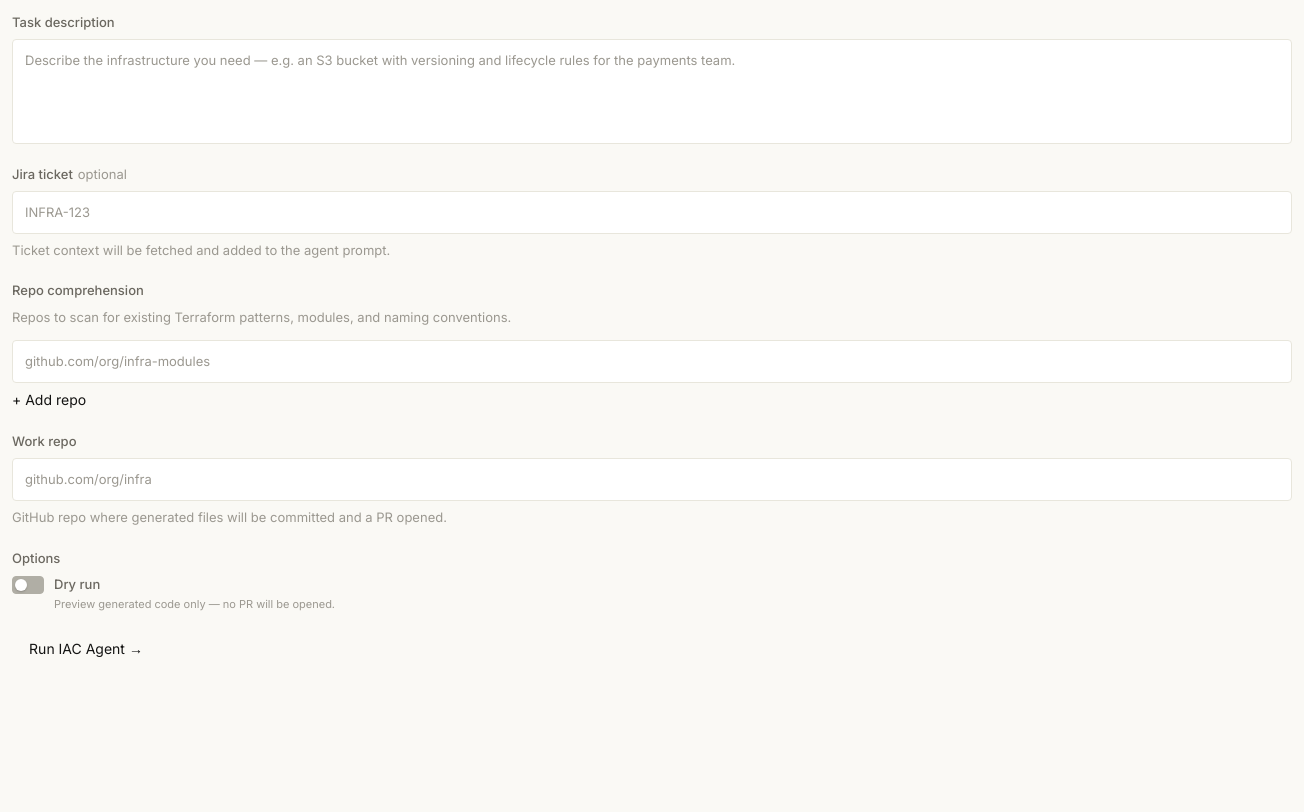
Test: TaskForm › removeRepo always leaves at least one row
Expected: the button "✕" is not shown
What coordinates should you click on to do the following:
click the button "+ Add repo"
I would click on:
 (49, 400)
Its box is [12,389,86,411].
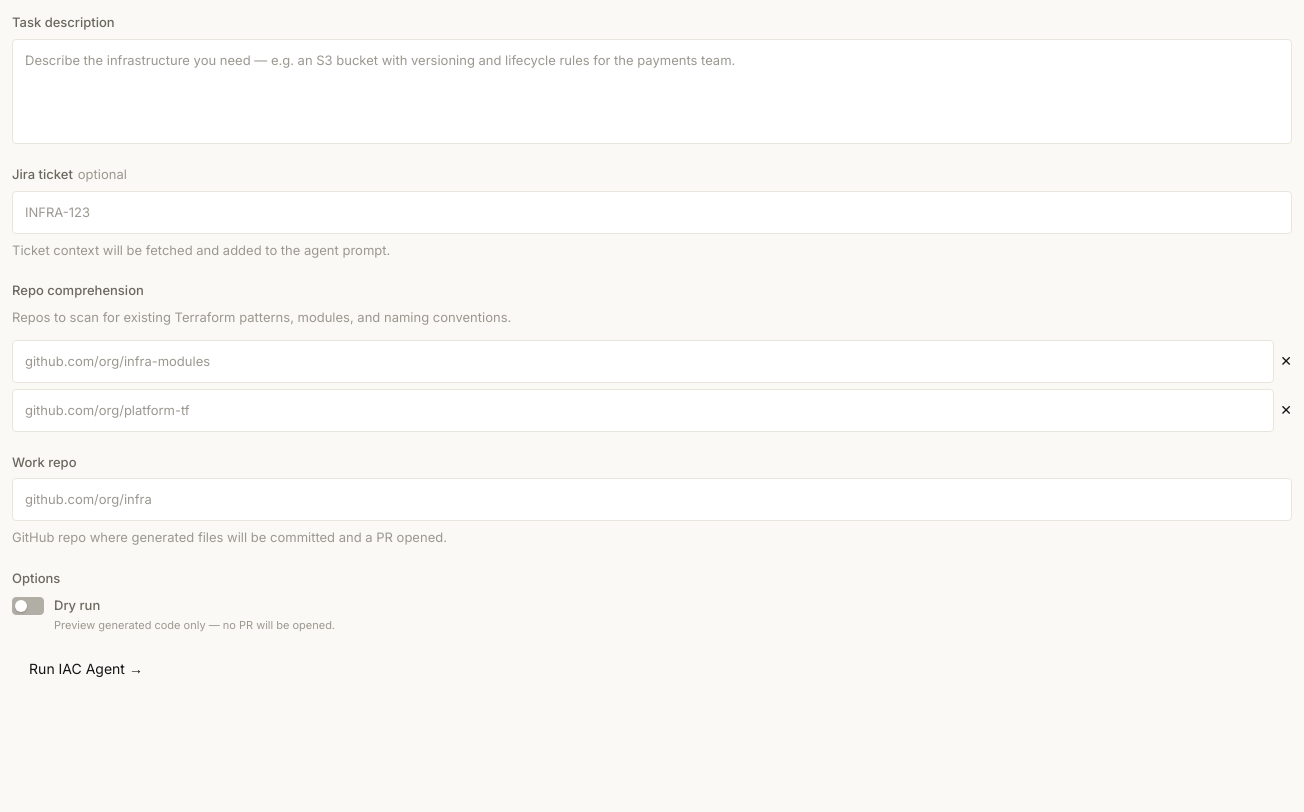
Expected: the number of buttons "✕" is 2
What coordinates should you click on to do the following:
click the 1st button "✕"
I would click on:
 (1286, 361)
Its box is [1280,340,1292,383].
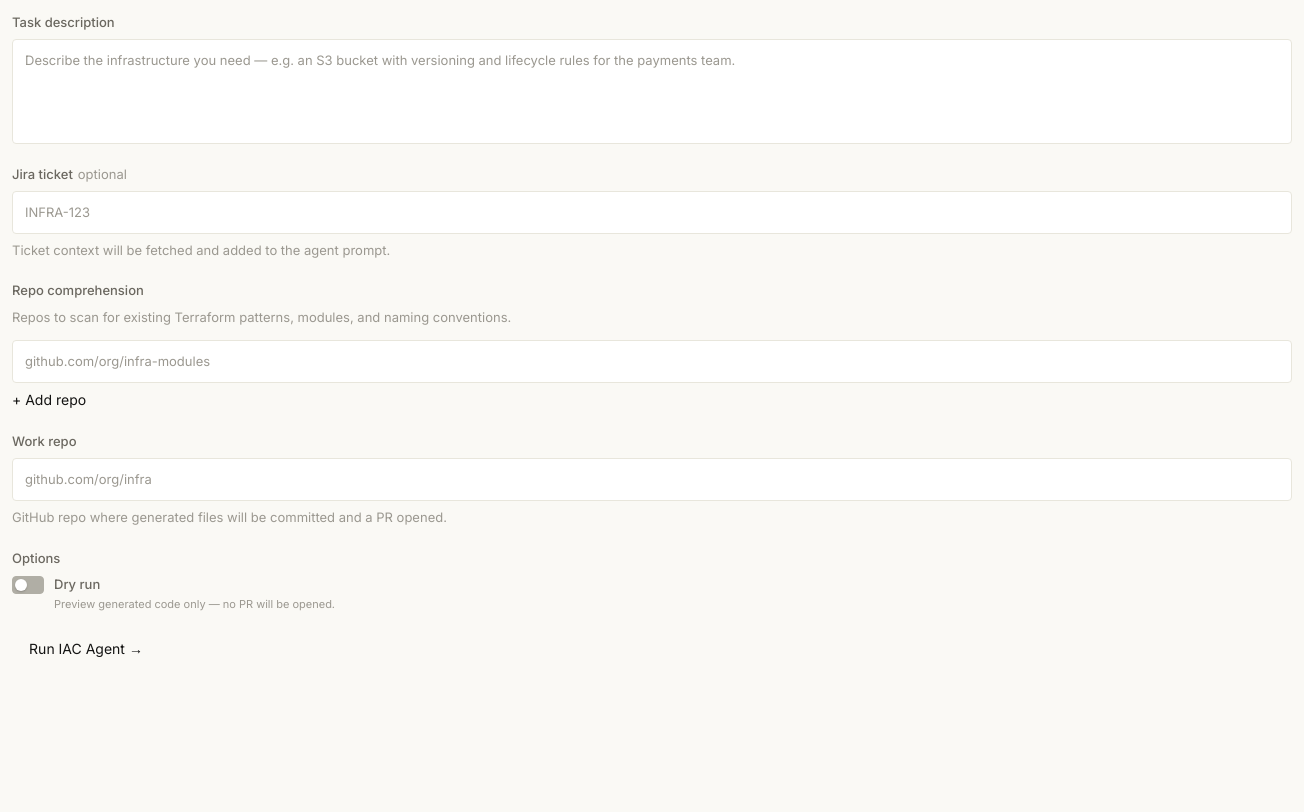
Expected: the field with placeholder "github.com/org/infra-modules" is empty, [12,340,1292,383]
Expected: the number of fields with placeholder "github.com/org/infra-modules" is 1, [12,340,1292,383]
Expected: the button "✕" is gone
